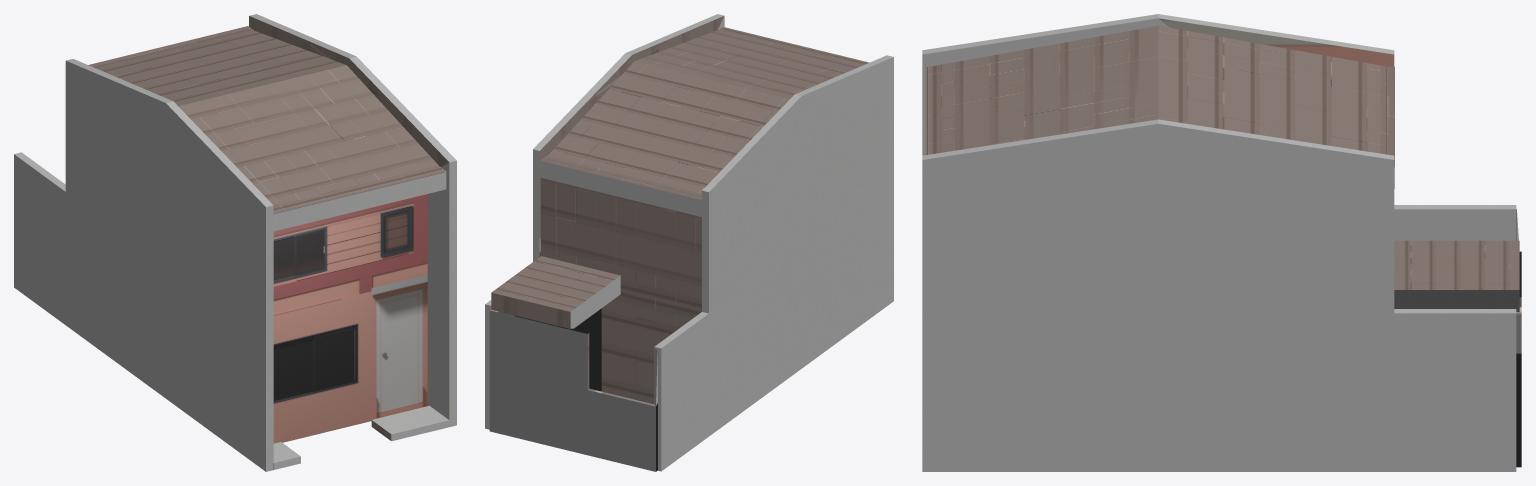
Rendered from boxie8.glb.
3 renders of one model, left to right at view 1: azimuth 30°, elevation 25°; view 2: azimuth 150°, elevation 25°; view 3: azimuth 270°, elevation 25°, orthographic. The views are drawn at different scales.
Visible parts, largest first — view 1: Plane.004; view 2: Plane.004; view 3: Plane.004.
Boxes of the visible parts, x1,y1,x2,y2 form: Plane.004: (14,14,456,471); Plane.004: (485,14,893,471); Plane.004: (922,14,1521,471).
Bounding box in the file's own units: 3.86 × 5.71 × 8.91.
1 material, 1 textured.
